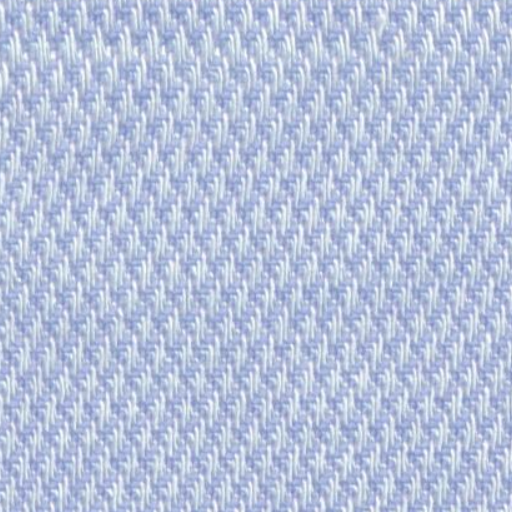TuoSha: (24, 18, 476, 90)
